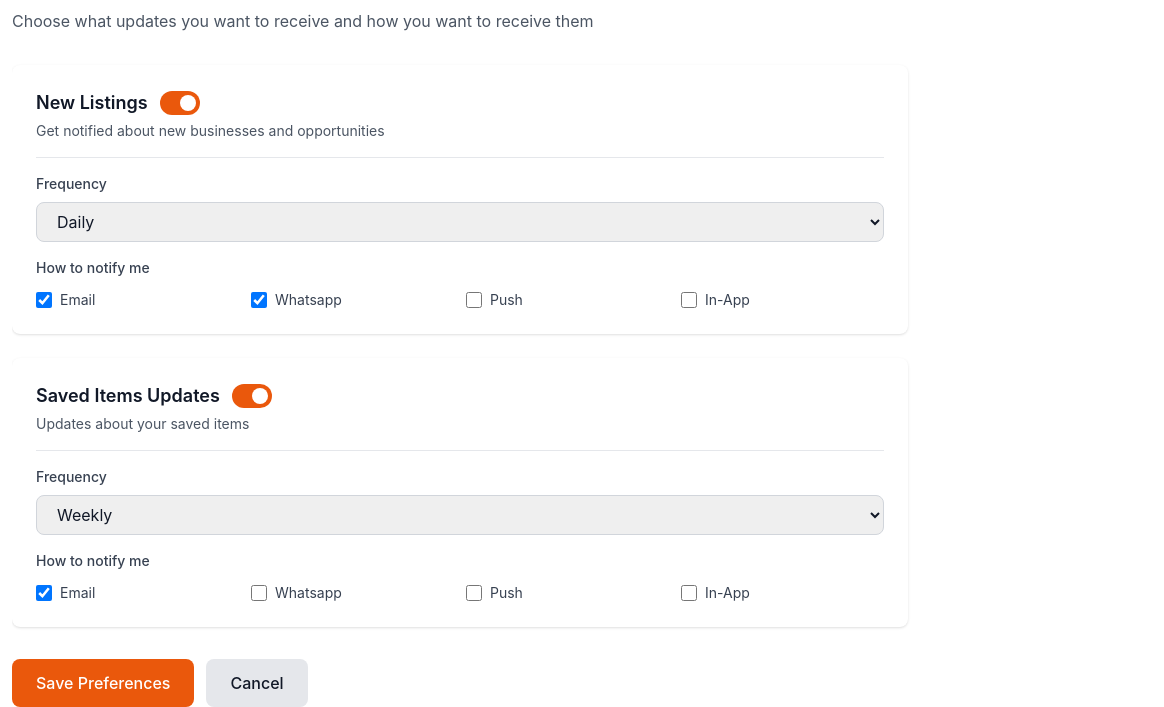
Scenario: Notifications Page › should display error message on save failure
(page scrolled)
What coordinates should you click on to do the following:
click the button "Save Preferences"
I would click on:
 (103, 683)
Its box is [12,659,194,706].
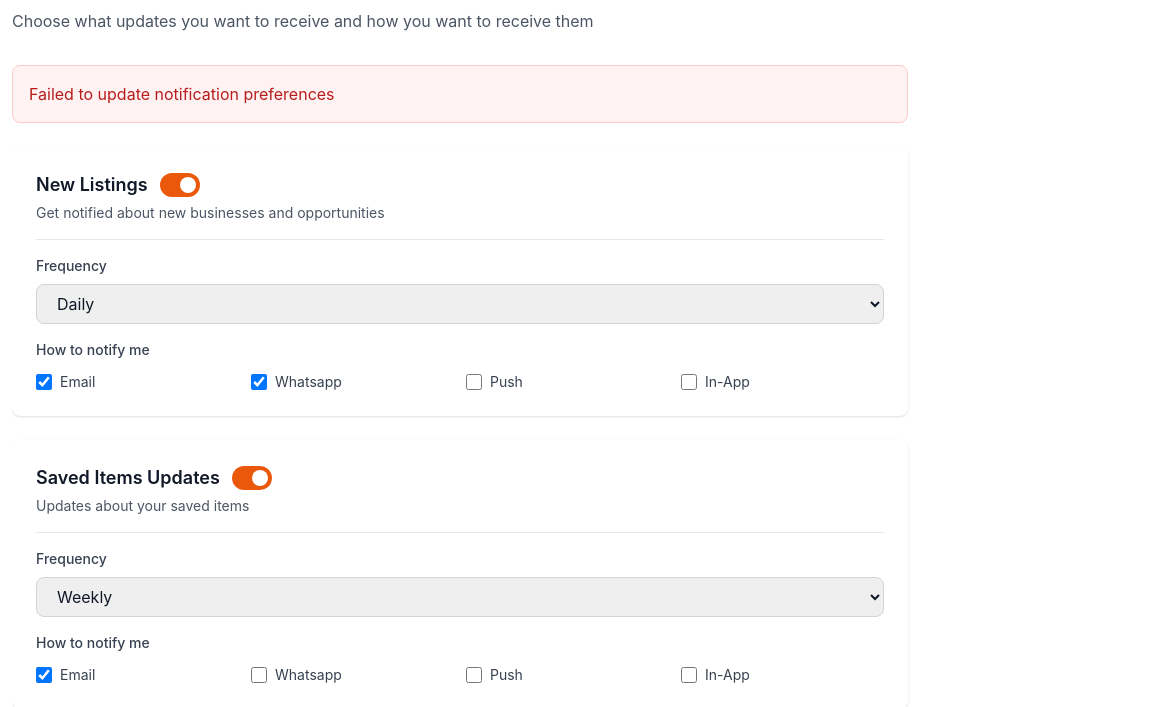
Expected: the text "Failed to update notification preferences" is shown, [12,65,908,123]
